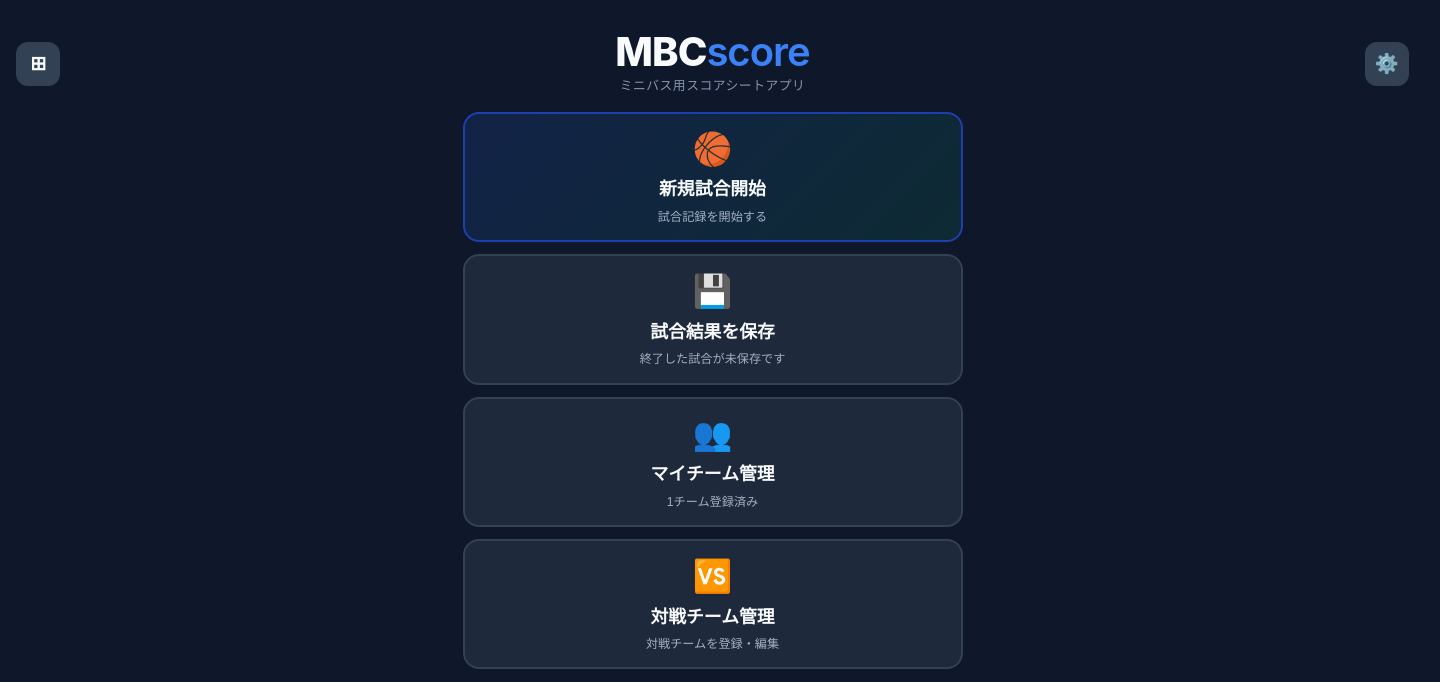
Test: App: 未解決の保留アクションがある状態での試合終了 › 保存前に件数を知らせる
Click the text "試合結果を保存" at (713, 330), box [650,317,775,343]
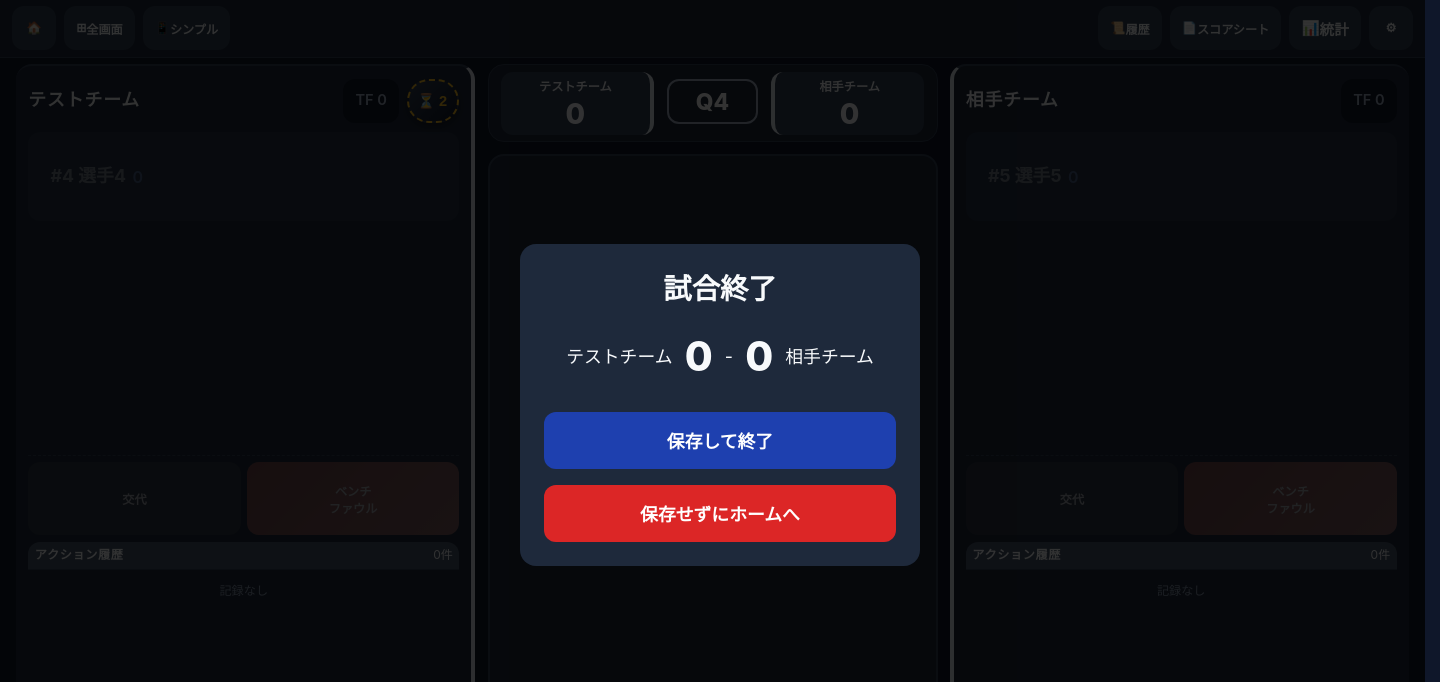
Click the button "保存して終了" at (720, 440), box [544,412,896,469]
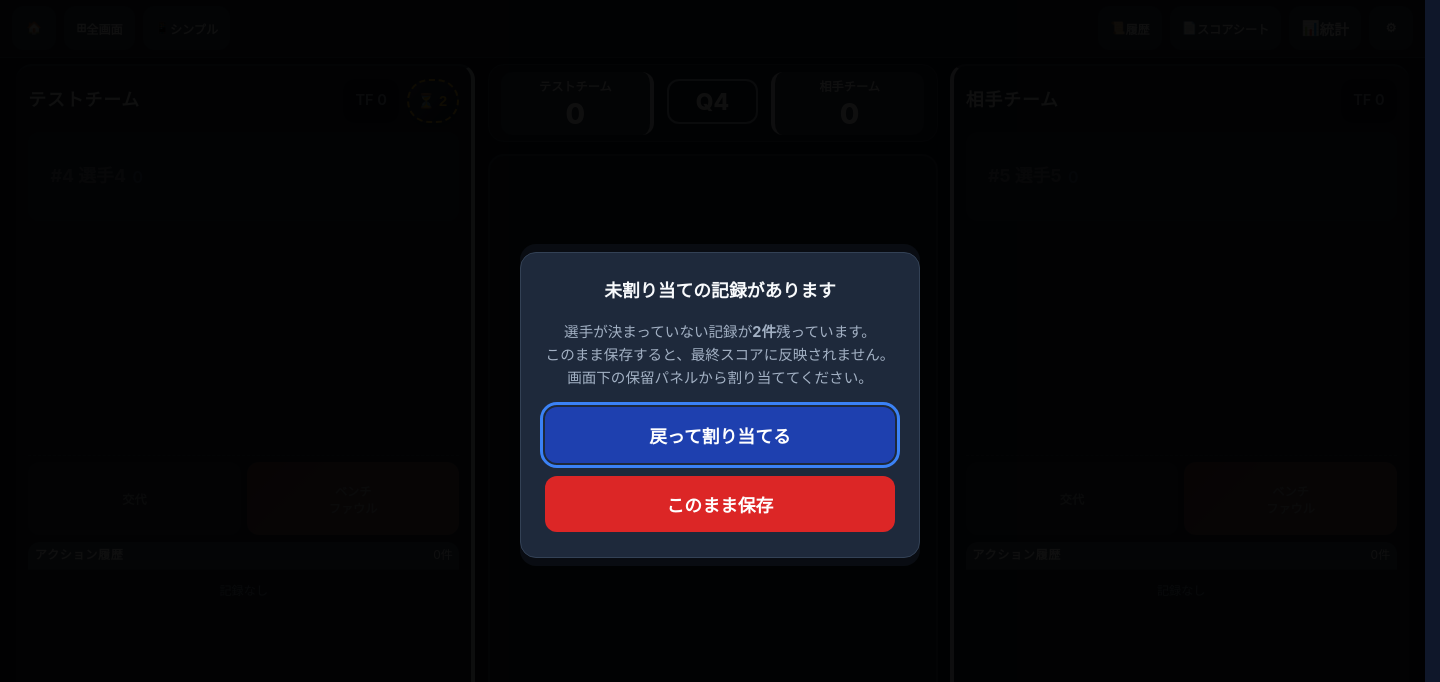
Check: the heading "未割り当ての記録があります" is shown, box [604,280,836,301]
Check: the text "2件" is shown, box [752,323,776,341]
